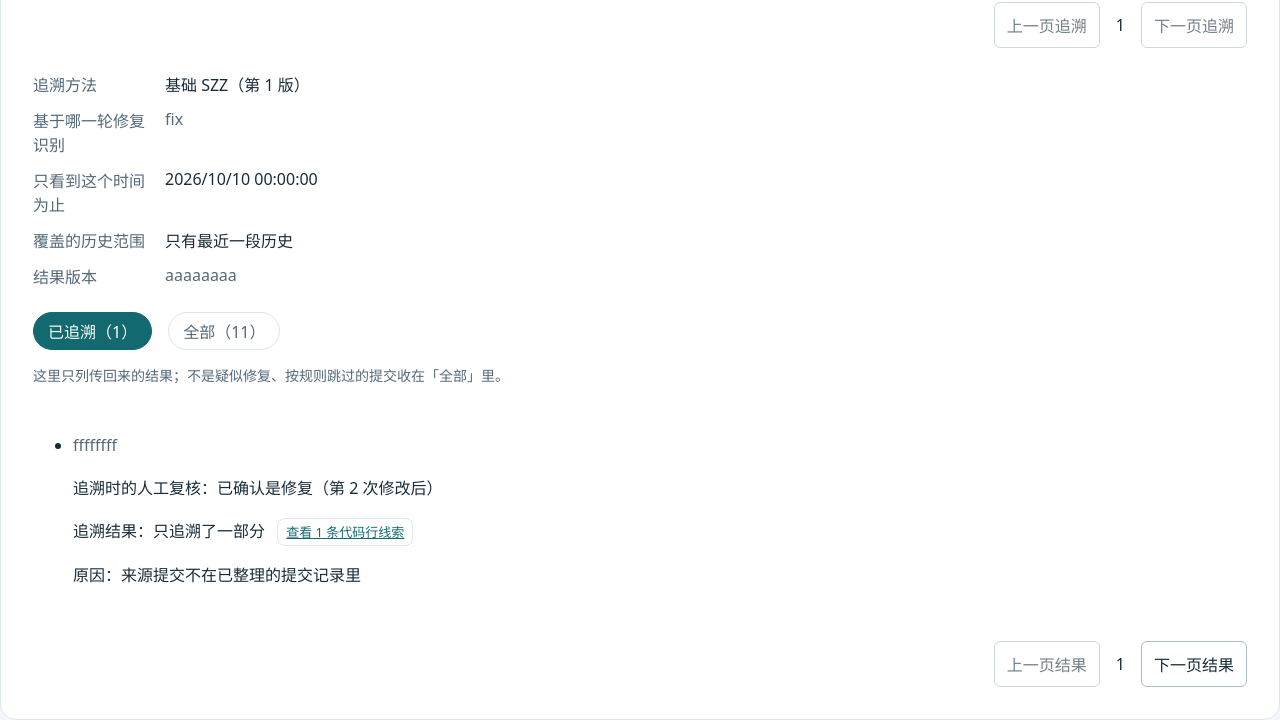
Test case: line evidence and paginated results retain unknown boundaries
(page scrolled)
Click the button "查看 1 条代码行线索": (345, 532) [277,518,413,546]
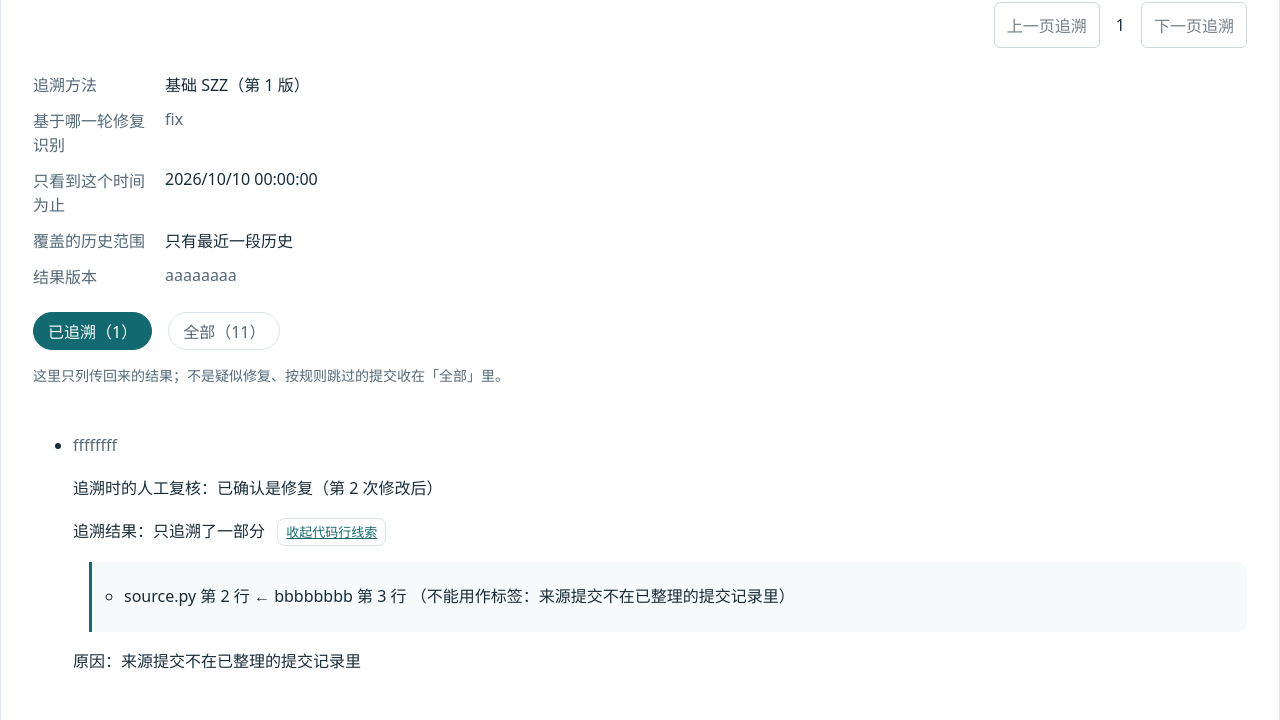
Check: the text "来源提交不在已整理的提交记录里" is shown, box [411,585,795,607]
Check: the text "source.py 第 2 行" is shown, box [124,585,411,607]
Check: the text "第 3 行" is shown, box [124,585,411,607]
